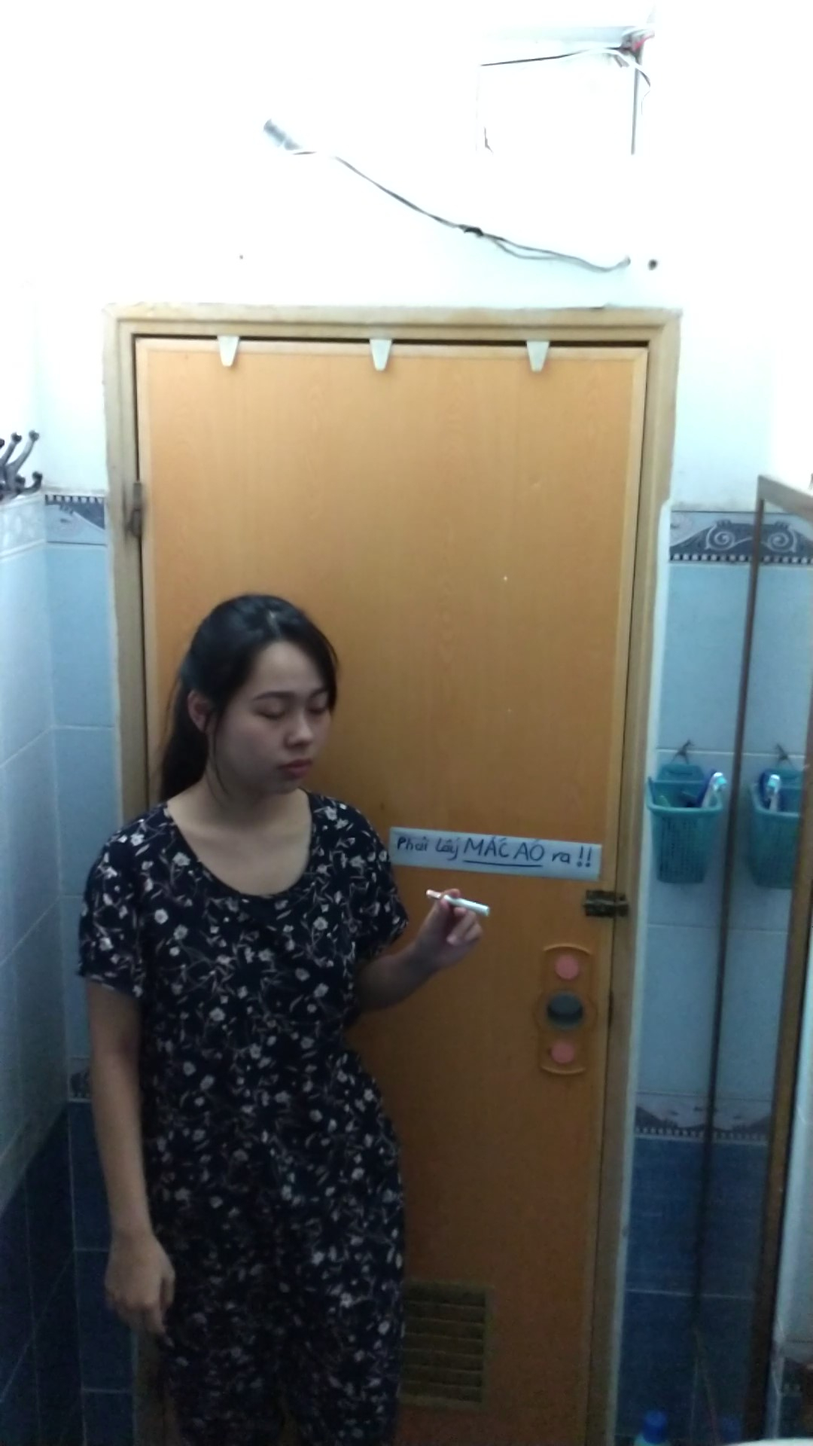cigarette: (449, 892, 495, 919)
